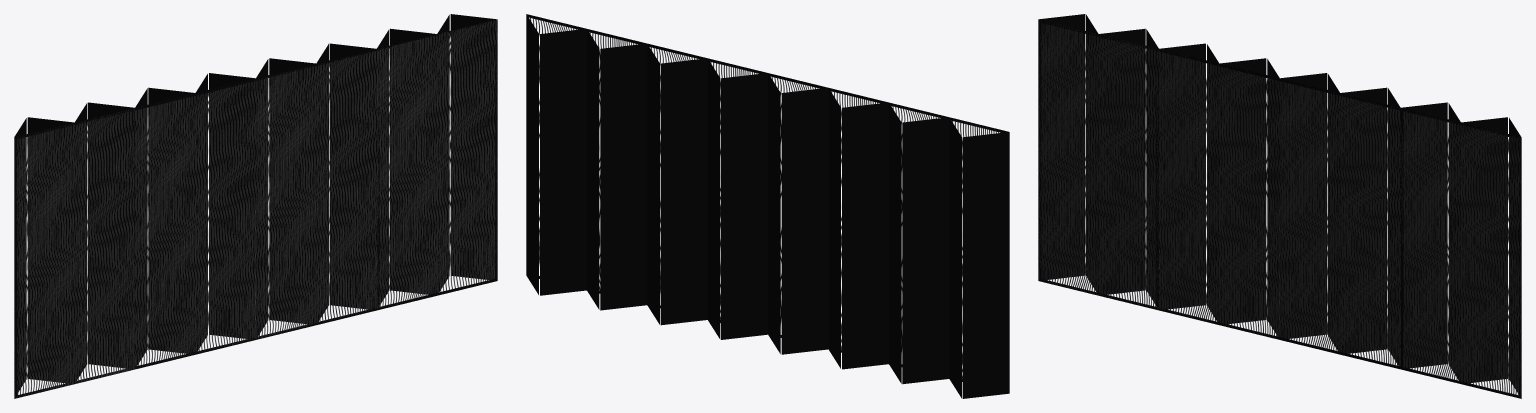
The model's file is windows.glb.
3 renders of one model, left to right at view 1: azimuth 30°, elevation 25°; view 2: azimuth 150°, elevation 25°; view 3: azimuth 330°, elevation 25°, orthographic.
Visible parts, largest first — view 1: fins 11 15 26 A.002, fins 11 15 26 A, fins 11 15 26 A.003, fins 11 15 26 A.001, frame; view 2: fins 11 15 26 A.003, fins 11 15 26 A.001, fins 11 15 26 A.002, fins 11 15 26 A, frame; view 3: fins 11 15 26 A, fins 11 15 26 A.002, fins 11 15 26 A.001, fins 11 15 26 A.003, frame.
Boxes of the visible parts, x1,y1,x2,y2 form: fins 11 15 26 A.002: (256, 43, 376, 338); fins 11 15 26 A: (135, 73, 255, 367); fins 11 15 26 A.003: (376, 14, 497, 309); fins 11 15 26 A.001: (14, 102, 134, 398); frame: (14, 19, 497, 398); fins 11 15 26 A.003: (526, 14, 647, 310); fins 11 15 26 A.001: (889, 103, 1009, 398); fins 11 15 26 A.002: (647, 44, 767, 339); fins 11 15 26 A: (768, 73, 888, 369); frame: (526, 14, 1008, 381); fins 11 15 26 A: (1159, 43, 1279, 339); fins 11 15 26 A.002: (1280, 73, 1400, 366); fins 11 15 26 A.001: (1038, 14, 1158, 309); fins 11 15 26 A.003: (1400, 102, 1521, 396); frame: (1038, 19, 1521, 398).
Bounding box in the file's own units: 172 × 89 × 10.61.
17 materials, 12 textured.
